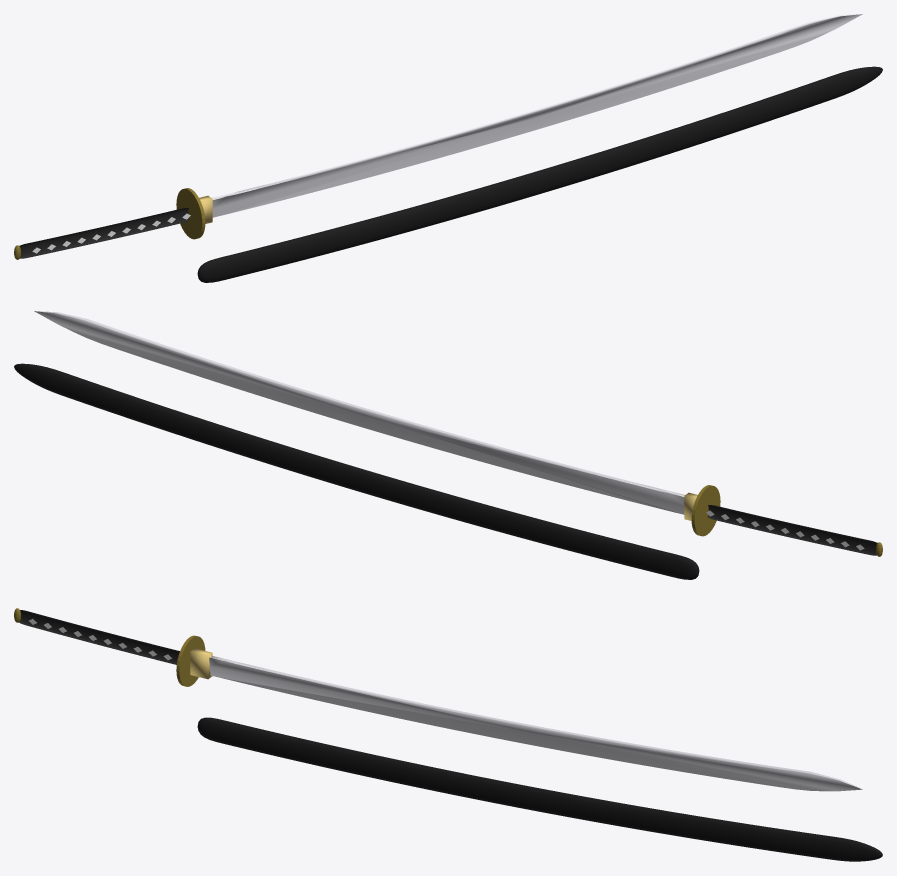
File: swordkatana.glb
The picture shows the model from 3 angles, top to bottom: view 1: azimuth 30°, elevation 25°; view 2: azimuth 150°, elevation 25°; view 3: azimuth 330°, elevation 25°; orthographic projection.
Parts seen in each view (by area): view 1: Saya, KatanaBlade, Tsuka, Tsuba; view 2: Saya, KatanaBlade, Tsuka, Tsuba; view 3: Saya, KatanaBlade, Tsuka, Tsuba, Habaki.
Boxes of the visible parts, box(x1,y1,x2,y2) form: Saya: box(197, 66, 882, 282); KatanaBlade: box(212, 14, 862, 217); Tsuka: box(19, 208, 189, 258); Tsuba: box(176, 188, 205, 239); Saya: box(14, 363, 699, 579); KatanaBlade: box(34, 311, 684, 514); Tsuka: box(707, 505, 877, 555); Tsuba: box(691, 485, 720, 536); Saya: box(197, 717, 882, 861); KatanaBlade: box(209, 656, 862, 791); Tsuka: box(19, 610, 179, 664); Tsuba: box(176, 635, 205, 686); Habaki: box(190, 648, 212, 679).
Bounding box in the file's own units: 5.79 × 0.7251 × 0.3.
